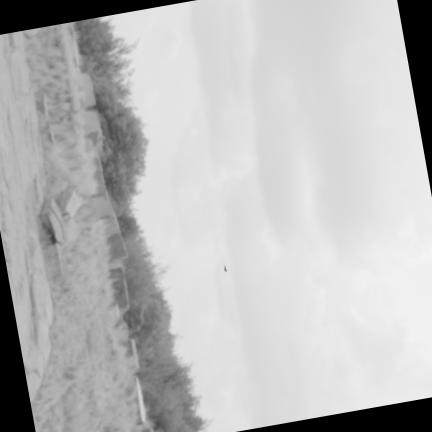Shahed: (223, 265, 226, 271)
